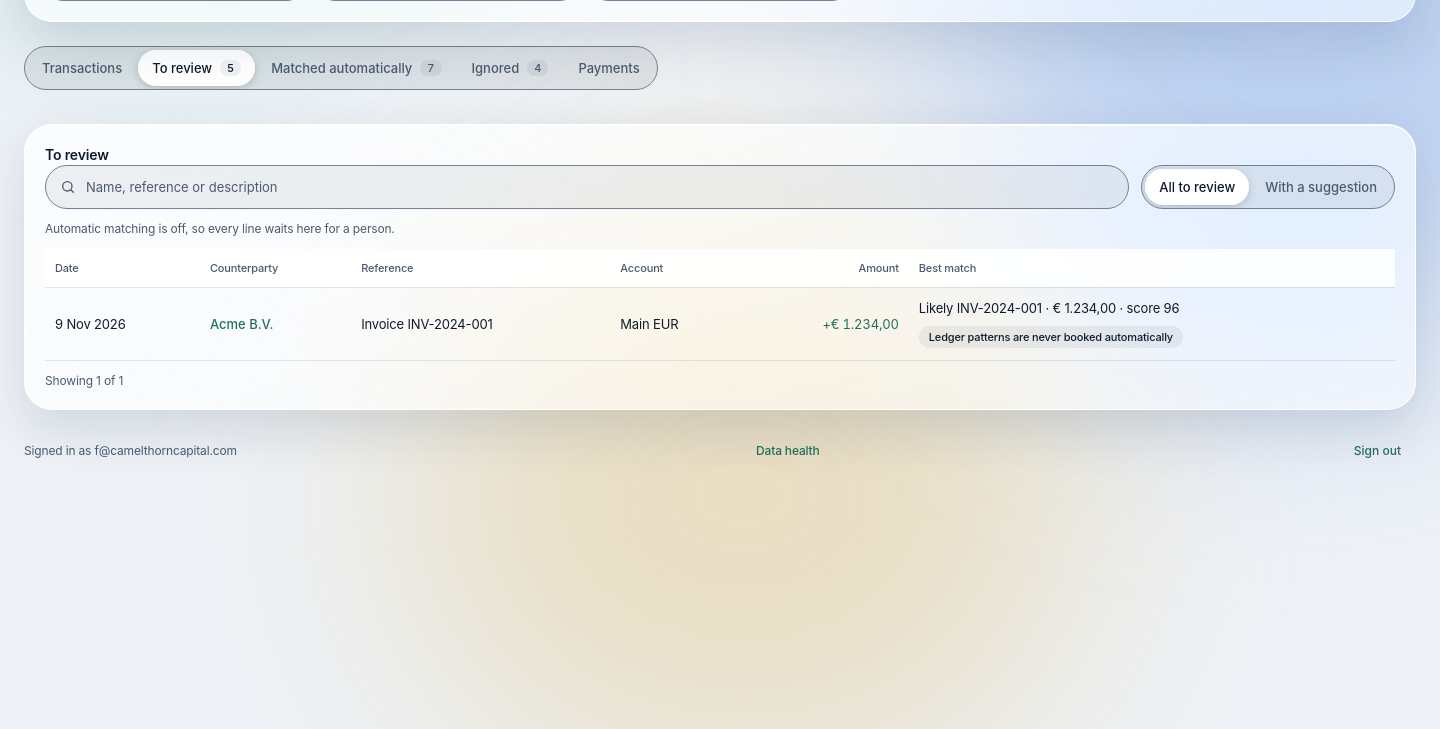
Scenario: transaction and candidates › shows a skeleton while loading and an error with Try again when the detail fails
(page scrolled)
Click the button "Acme B.V." at (242, 324), box [210,312,274,336]
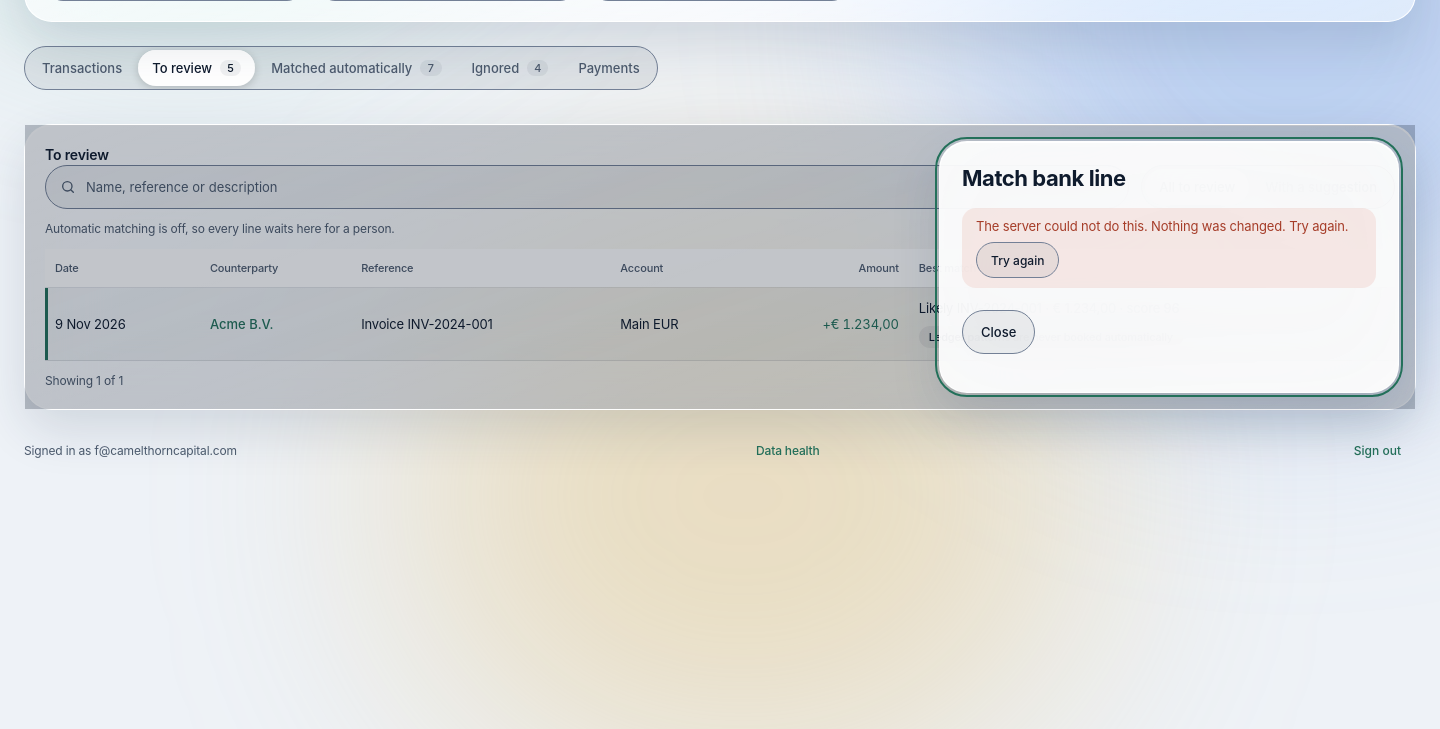
Result: the message shows "The server could not do this" at [976,218,1348,234]
Click the button "Try again" at (1018, 260), box [976,242,1059,278]
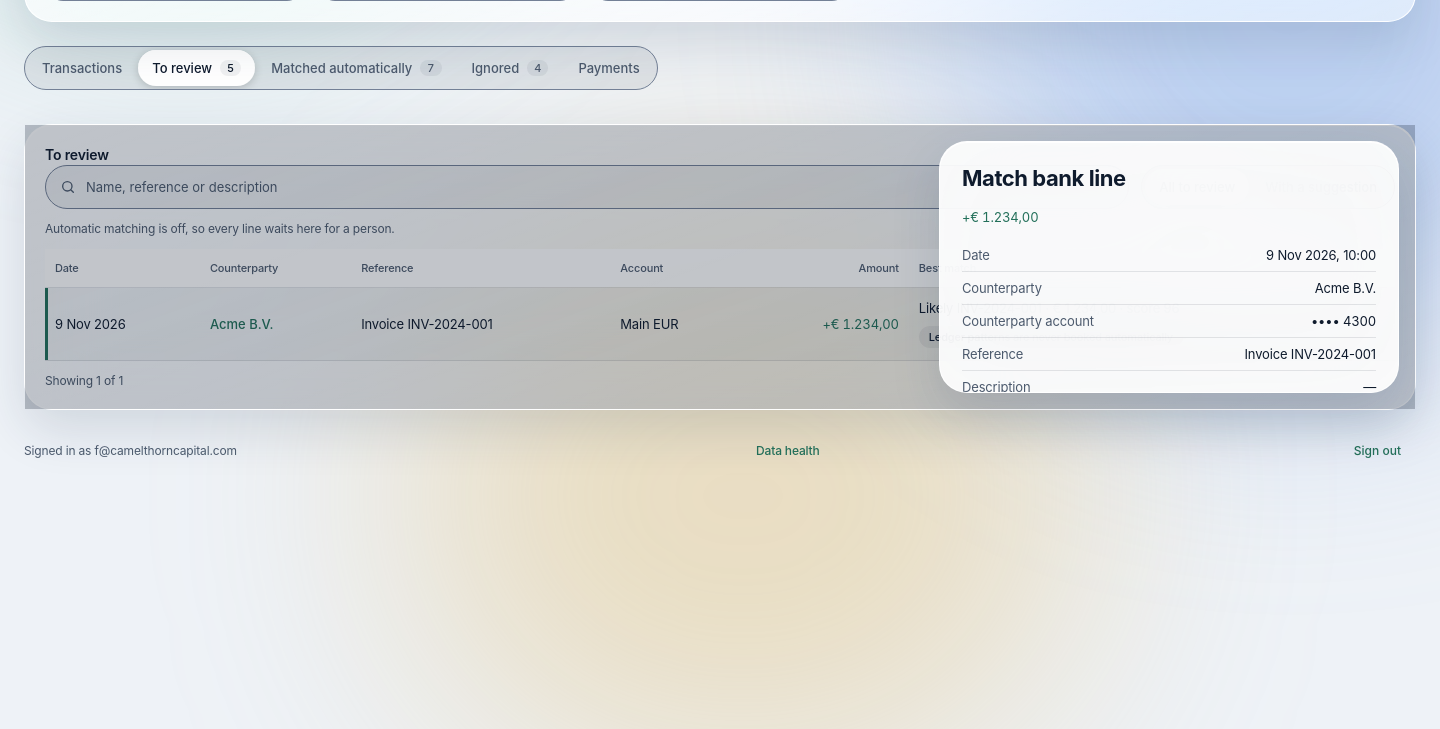
Result: the text "Counterparty" is shown at [962,280,1042,296]
